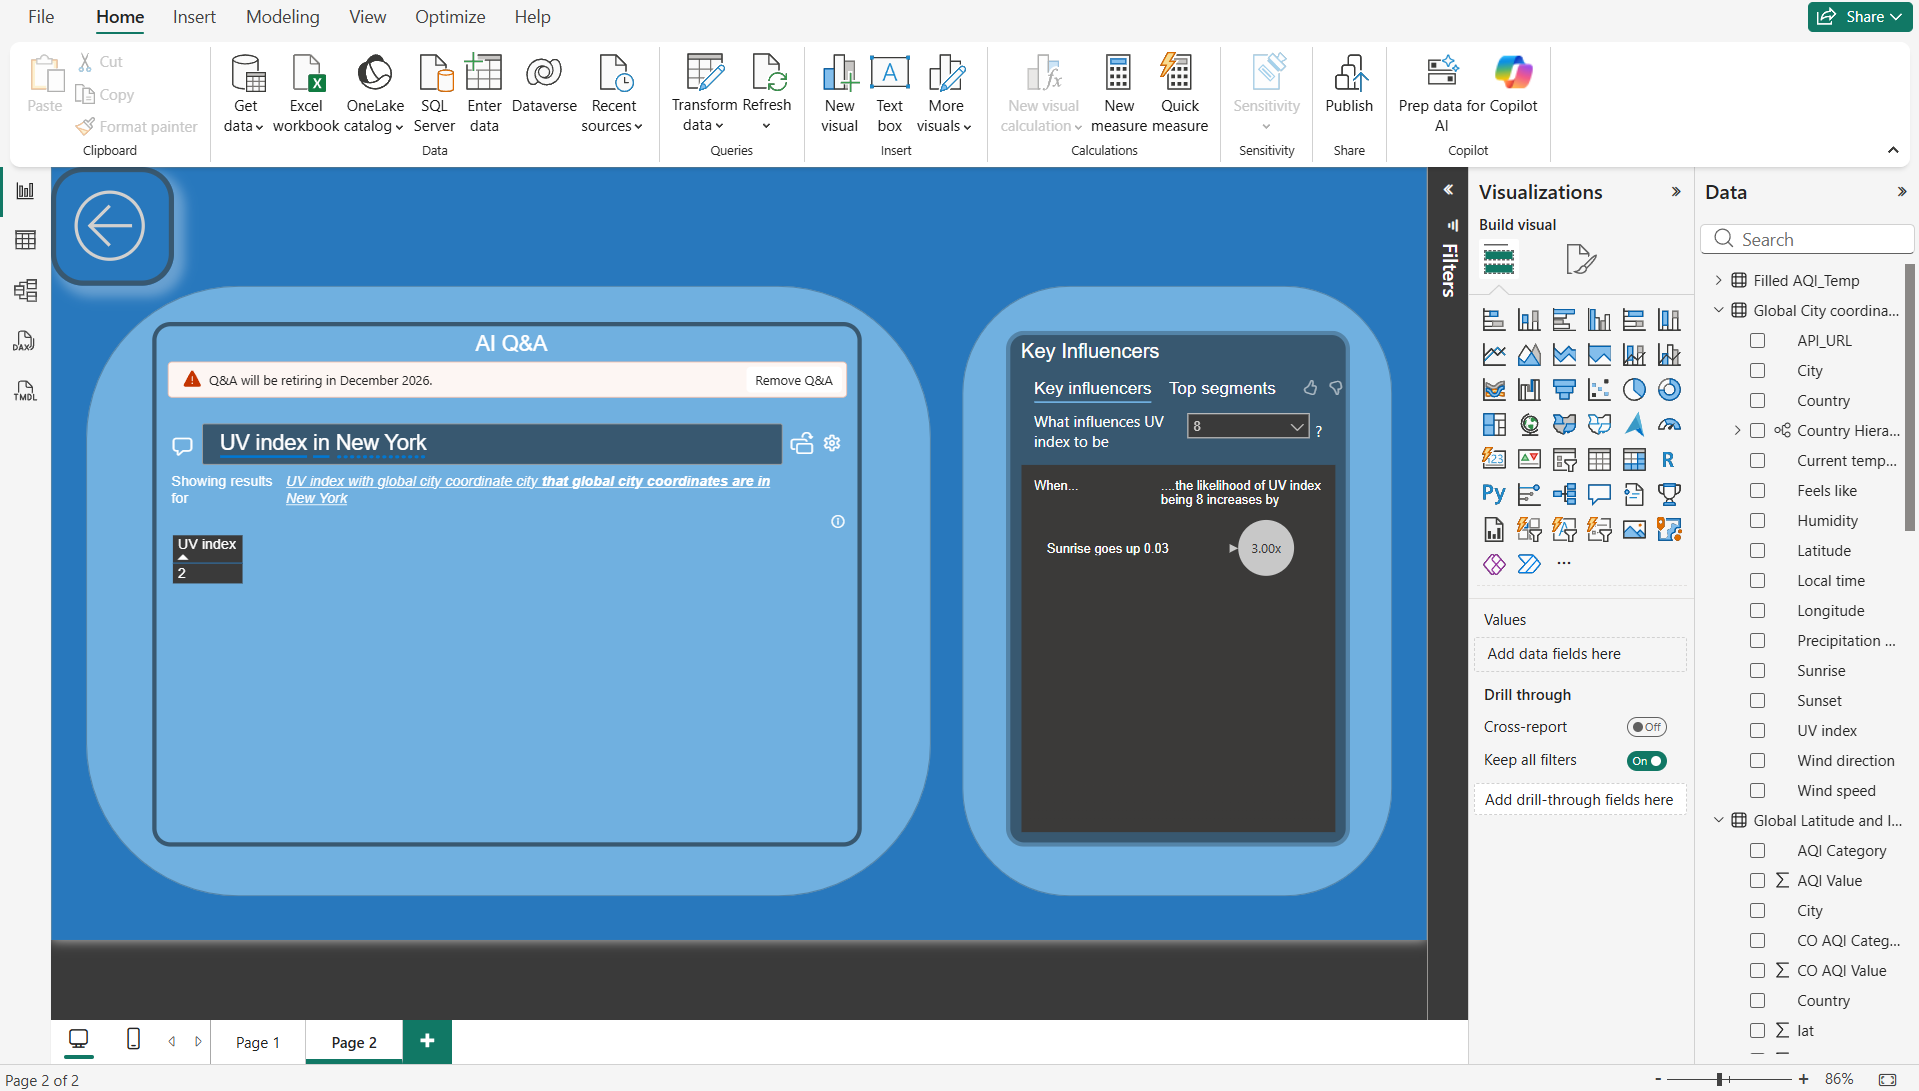

Layout of this report page (visuals, bound fields, positions):
{"tool":"powerbi","page":{"name":"Page 2","canvas":[1280,720],"ordinal":1},"visuals":[{"type":"shape","box":[0,0,1280.3,720],"z":0},{"type":"shape","box":[32,110,786,568],"z":1000},{"type":"qnaVisual","title":"AI Q&A","box":[94,144,660,488],"z":2000},{"type":"shape","box":[848,110,400,568],"z":3000},{"type":"keyDriversVisual","title":"Key Influencers","fields":{"ExplainBy":["Global City coordinates.Latitude","Global City coordinates.Longitude","Global City coordinates.Sunrise"],"Target":["Global City coordinates.UV index"]},"box":[888,152,320,480],"z":4000},{"type":"actionButton","box":[0,0,114,110],"z":5000}]}

Visuals, with their boxes on the page's 1280x720 design canvas (x1, y1, x2, y2). These are canvas units, not pixel positions in the 1919x1091 screenshot, which may show the page scaled, cropped or inside an application window:
shape: [x1=0, y1=0, x2=1280, y2=720]
shape: [x1=32, y1=110, x2=818, y2=678]
"AI Q&A" qnaVisual: [x1=94, y1=144, x2=754, y2=632]
shape: [x1=848, y1=110, x2=1248, y2=678]
"Key Influencers" keyDriversVisual: [x1=888, y1=152, x2=1208, y2=632]
actionButton: [x1=0, y1=0, x2=114, y2=110]
